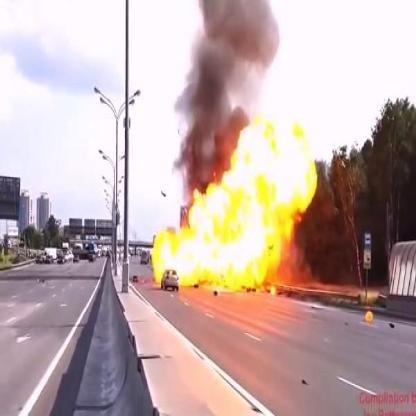fire: (147, 115, 326, 297), (365, 308, 374, 324)
